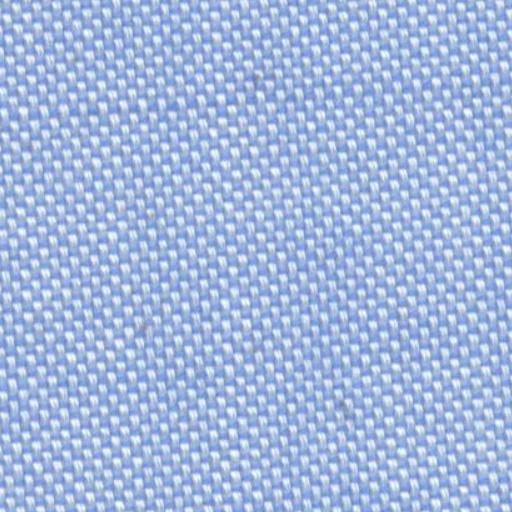TuoSha: (21, 55, 497, 130)
